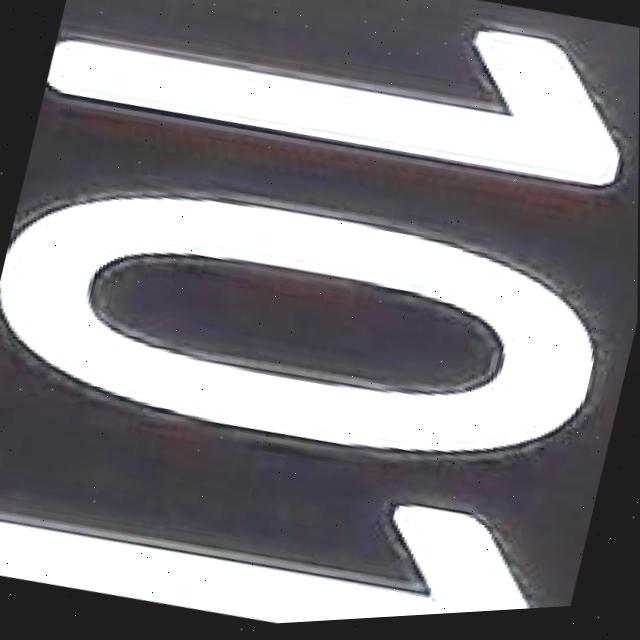character: (0, 121, 630, 531), (0, 380, 581, 640), (38, 0, 640, 241)
